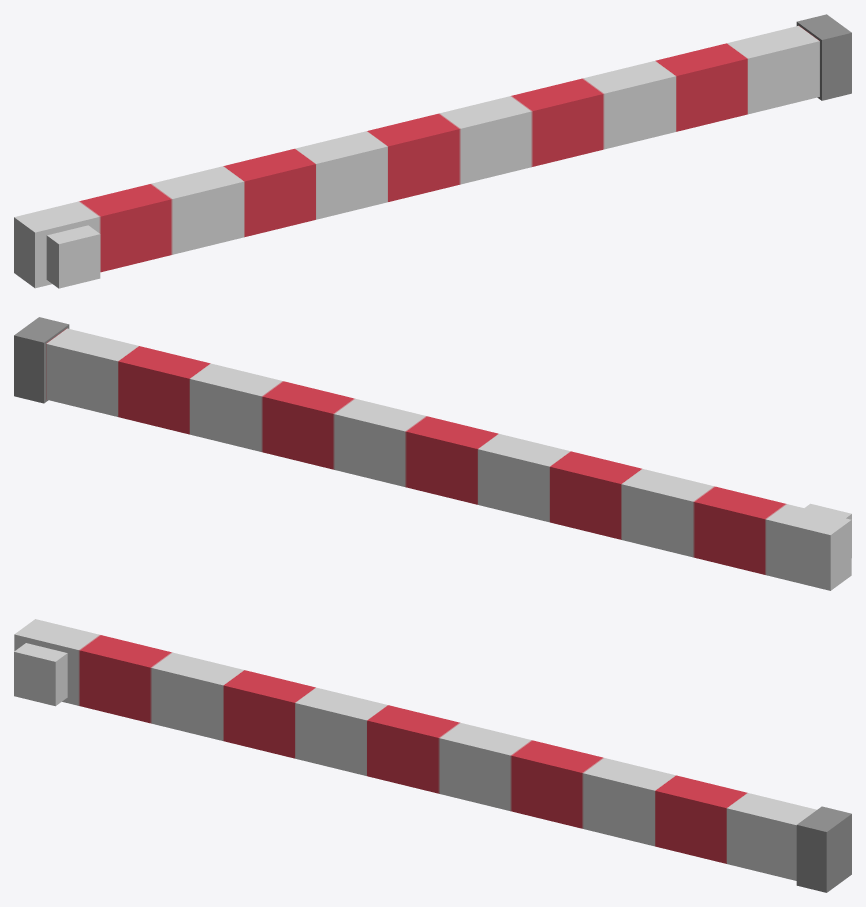
The model's file is 03 Barrier Stick.fbx.
3 renders of one model, top to bottom at view 1: azimuth 30°, elevation 25°; view 2: azimuth 150°, elevation 25°; view 3: azimuth 330°, elevation 25°, orthographic.
Parts seen in each view (by area): view 1: 03 Barrier Stick; view 2: 03 Barrier Stick; view 3: 03 Barrier Stick.
Part boxes in pixels (box(x1,y1,x2,y2)): 03 Barrier Stick: box(14, 14, 851, 288); 03 Barrier Stick: box(14, 317, 851, 590); 03 Barrier Stick: box(14, 619, 851, 892).
Size of the model in its own units: 157 by 11.22 by 11.75.
Materials: 1 (1 with a texture image).
